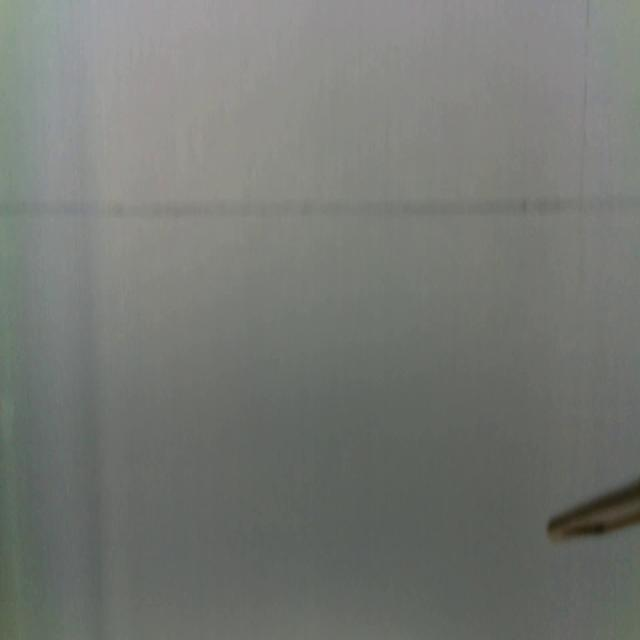color bleeding: (0, 190, 640, 223)
